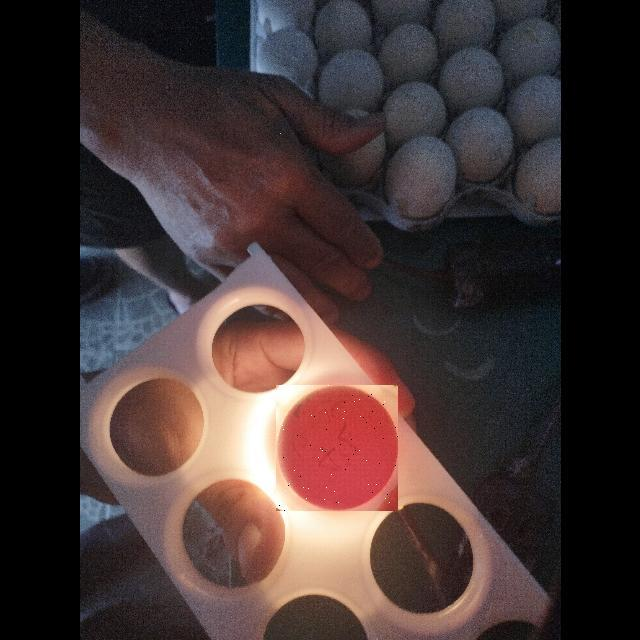Infertile: (276, 385, 398, 511)
